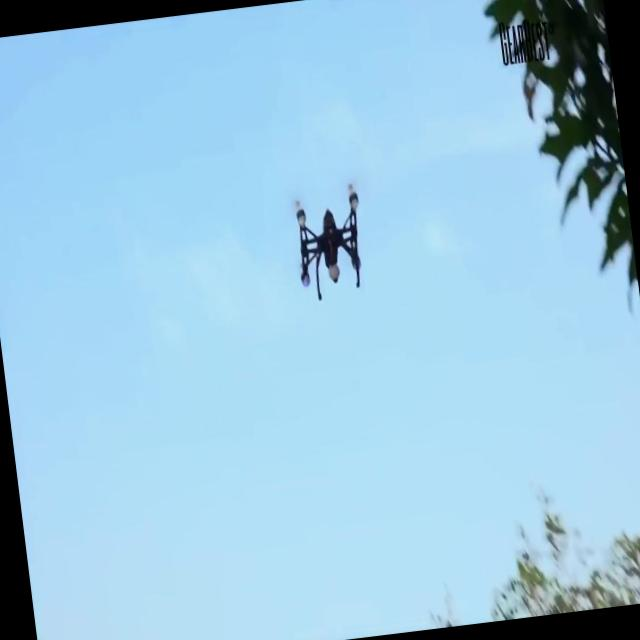drone: (286, 180, 369, 302)
